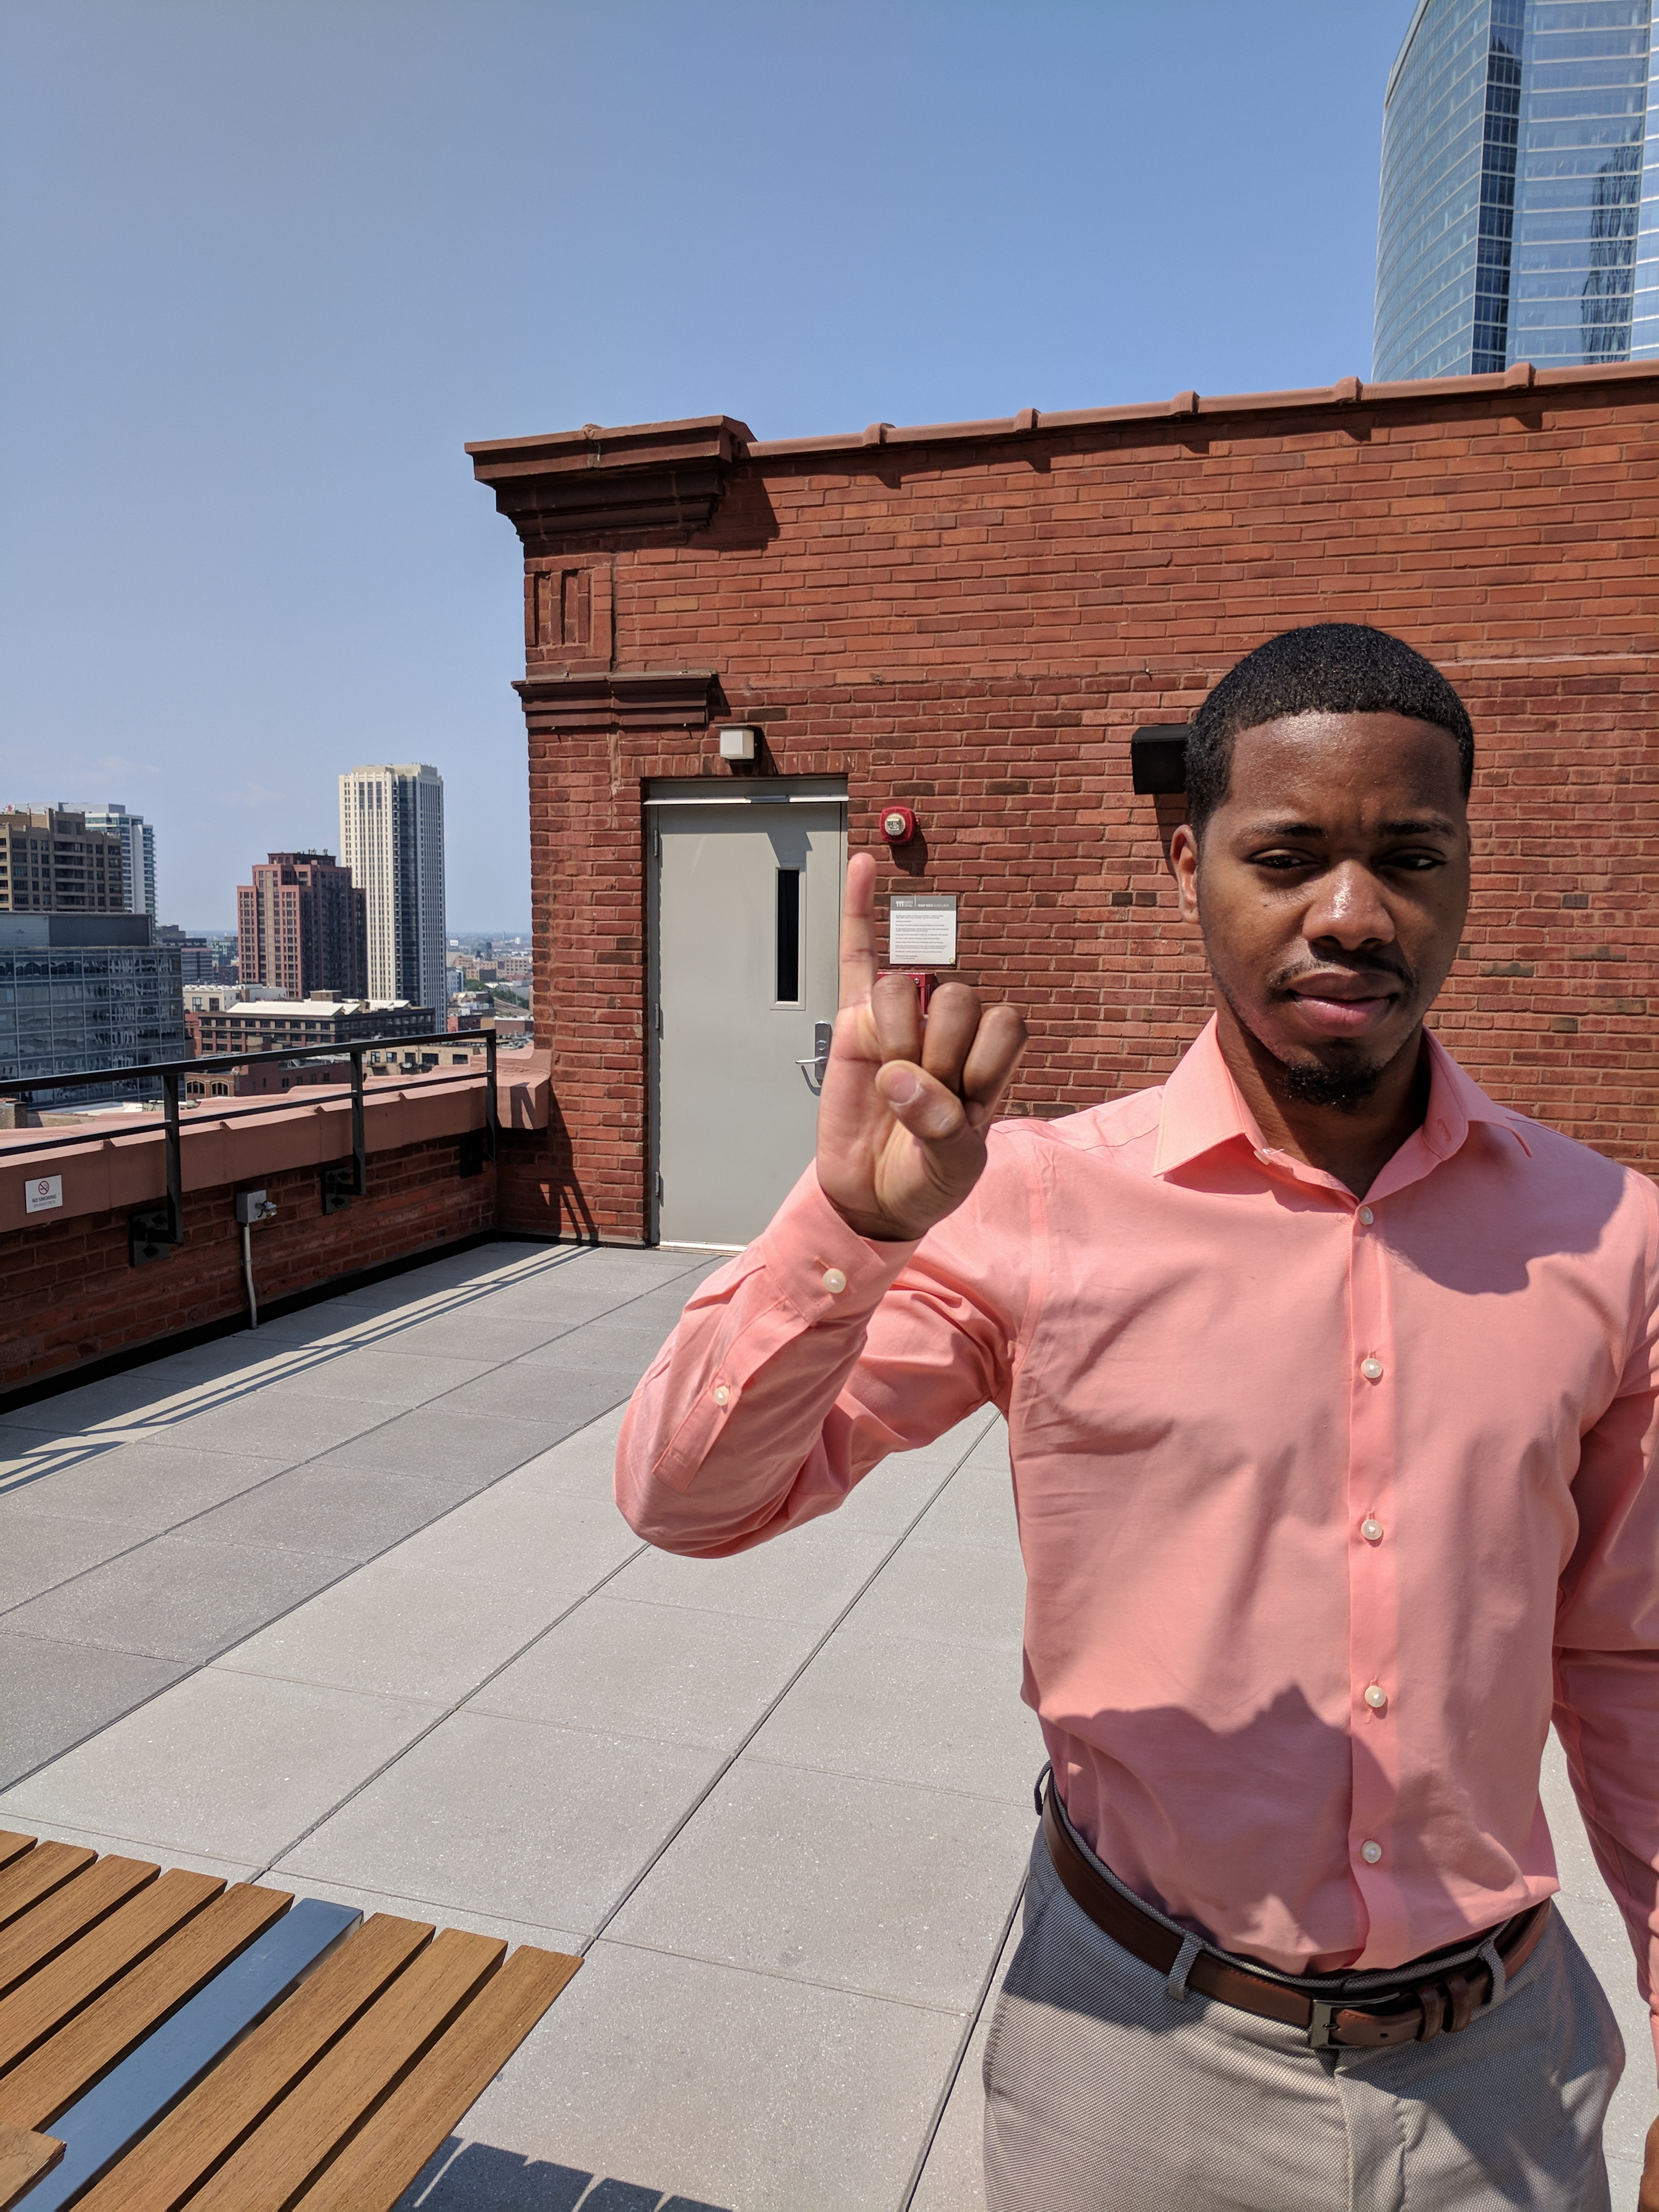i: (824, 848, 1030, 1244)
